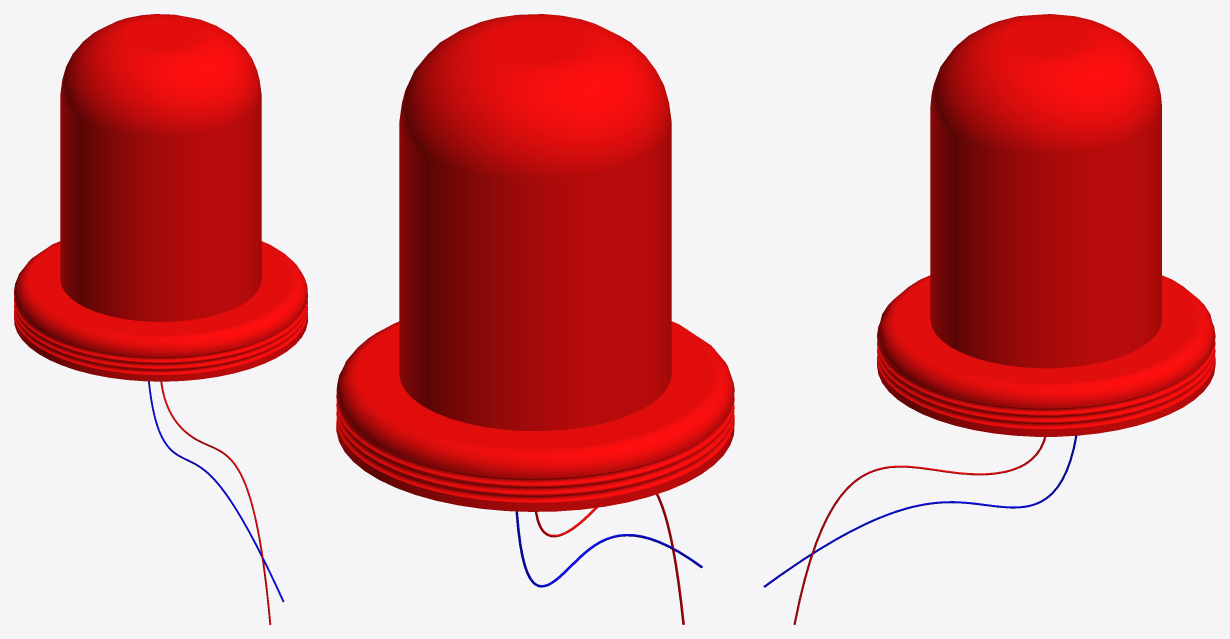
File: CHUONG BAO CHAY.fbx
3 views of the same model, side by side, from view 1: azimuth 30°, elevation 25°; view 2: azimuth 150°, elevation 25°; view 3: azimuth 270°, elevation 25° (orthographic). The views are drawn at different scales.
Visible parts, largest first — view 1: [2568], [3808], [3591]; view 2: [2568], [3591], [3808]; view 3: [2568], [3591], [3808].
Part boxes in pixels (bbox=[...]): [2568]: bbox=[14, 14, 307, 381]; [3808]: bbox=[160, 381, 271, 624]; [3591]: bbox=[148, 381, 284, 601]; [2568]: bbox=[336, 14, 734, 511]; [3591]: bbox=[515, 511, 702, 587]; [3808]: bbox=[535, 494, 684, 624]; [2568]: bbox=[877, 14, 1215, 436]; [3591]: bbox=[763, 435, 1077, 587]; [3808]: bbox=[793, 437, 1046, 624].
Bounding box in the file's own units: 1.52 × 2.03 × 2.91.
